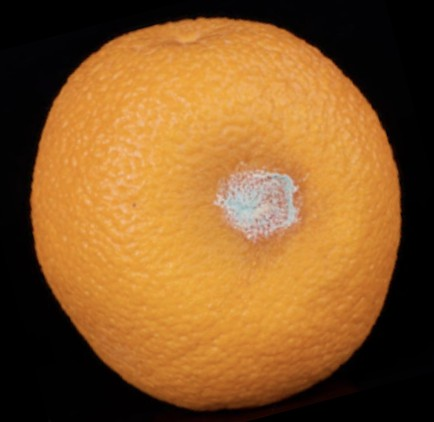rotten_orange: (32, 17, 403, 405)
